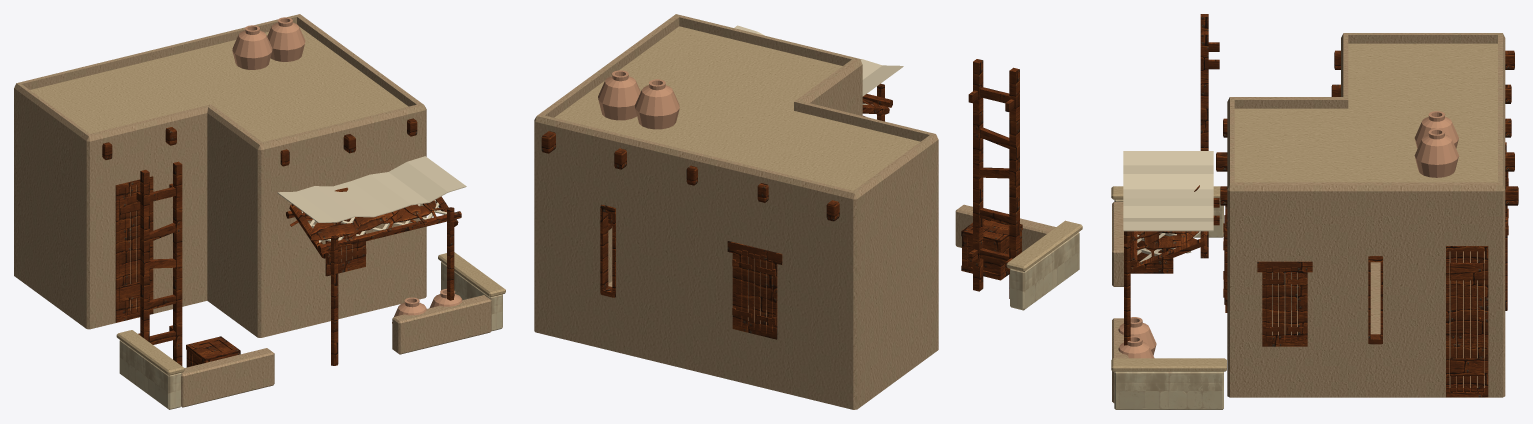
The model's file is house-courtyard.glb.
The picture shows the model from 3 angles, left to right: view 1: azimuth 30°, elevation 25°; view 2: azimuth 150°, elevation 25°; view 3: azimuth 270°, elevation 25°; orthographic projection. The views are drawn at different scales.
Visible parts, largest first — view 1: house-courtyard|3dtextures-lime-plaster, house-courtyard|3dtextures-limestone-coping, house-courtyard|3dtextures-aged-wood, house-courtyard|woven-linen, house-courtyard|fired-clay, house-courtyard|3dtextures-dressed-limestone; view 2: house-courtyard|3dtextures-lime-plaster, house-courtyard|3dtextures-limestone-coping, house-courtyard|3dtextures-aged-wood, house-courtyard|fired-clay, house-courtyard|3dtextures-dressed-limestone, house-courtyard|woven-linen; view 3: house-courtyard|3dtextures-lime-plaster, house-courtyard|3dtextures-limestone-coping, house-courtyard|3dtextures-aged-wood, house-courtyard|woven-linen, house-courtyard|3dtextures-dressed-limestone, house-courtyard|fired-clay.
Part boxes in pixels (<box>): house-courtyard|3dtextures-lime-plaster: <box>14,14,491,407</box>; house-courtyard|3dtextures-limestone-coping: <box>30,26,505,375</box>; house-courtyard|3dtextures-aged-wood: <box>102,118,461,367</box>; house-courtyard|woven-linen: <box>277,156,466,242</box>; house-courtyard|fired-clay: <box>232,17,462,323</box>; house-courtyard|3dtextures-dressed-limestone: <box>119,262,502,409</box>; house-courtyard|3dtextures-lime-plaster: <box>534,14,1055,409</box>; house-courtyard|3dtextures-limestone-coping: <box>554,26,1082,271</box>; house-courtyard|3dtextures-aged-wood: <box>541,59,1022,339</box>; house-courtyard|fired-clay: <box>598,70,679,129</box>; house-courtyard|3dtextures-dressed-limestone: <box>1010,232,1079,310</box>; house-courtyard|woven-linen: <box>734,25,903,105</box>; house-courtyard|3dtextures-lime-plaster: <box>1112,33,1505,402</box>; house-courtyard|3dtextures-limestone-coping: <box>1111,43,1497,371</box>; house-courtyard|3dtextures-aged-wood: <box>1124,14,1518,397</box>; house-courtyard|woven-linen: <box>1123,151,1213,262</box>; house-courtyard|3dtextures-dressed-limestone: <box>1114,199,1223,409</box>; house-courtyard|fired-clay: <box>1118,111,1458,358</box>.
Bounding box in the file's own units: 6.17 × 3.81 × 5.86.
6 materials, 4 textured.
